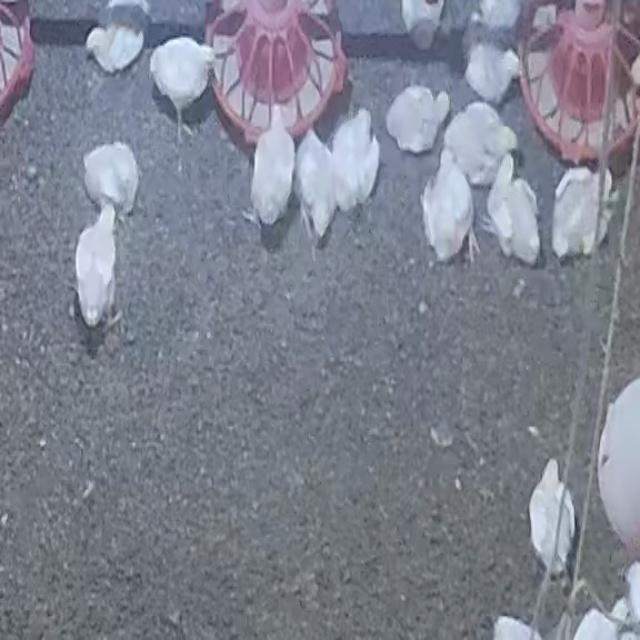chicken: (147, 36, 218, 139), (72, 205, 123, 342), (248, 108, 297, 236), (488, 158, 548, 260), (444, 101, 516, 186), (425, 149, 478, 263), (550, 167, 614, 261), (528, 461, 576, 578), (329, 107, 380, 215), (294, 125, 337, 249), (84, 0, 150, 74), (81, 141, 141, 221), (388, 86, 454, 146), (464, 42, 520, 104), (398, 0, 446, 50)
